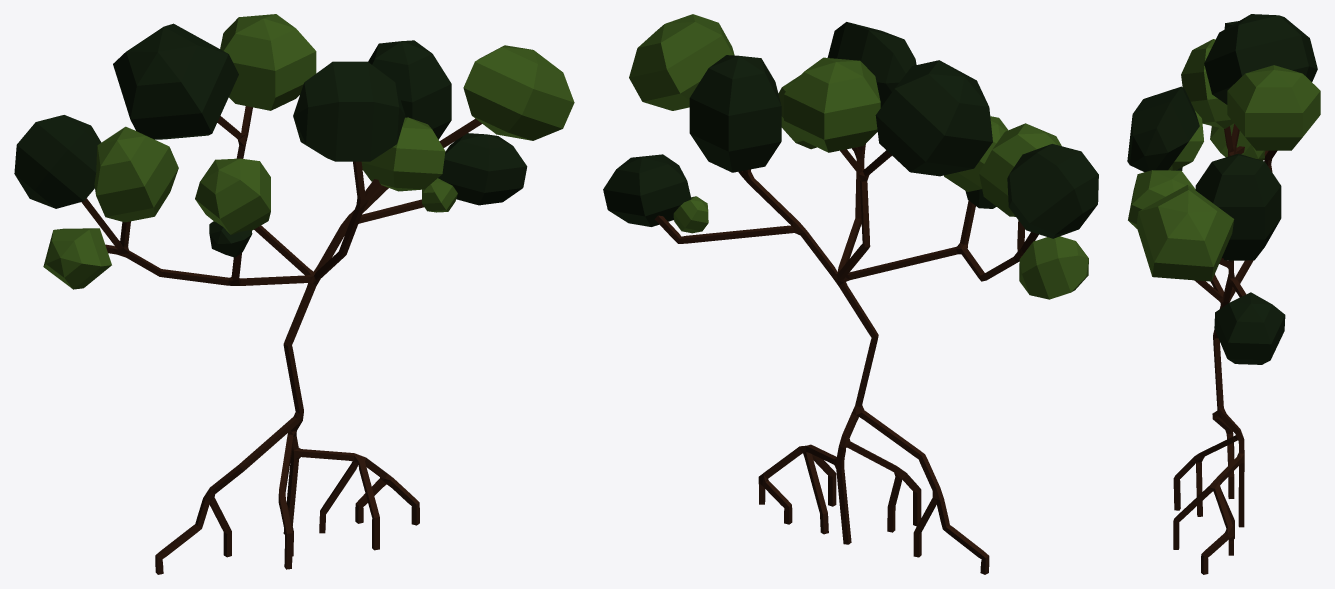
File: mangroveTree.dae
The picture shows the model from 3 angles, left to right: view 1: azimuth 30°, elevation 25°; view 2: azimuth 150°, elevation 25°; view 3: azimuth 270°, elevation 25°; orthographic projection. The views are drawn at different scales.
Visible parts, largest first — view 1: mangroveTree; view 2: mangroveTree; view 3: mangroveTree.
Part boxes in pixels (left/top/right/bottom): mangroveTree: left=14, top=14, right=574, bottom=574; mangroveTree: left=603, top=14, right=1098, bottom=574; mangroveTree: left=1127, top=14, right=1320, bottom=574.
Size of the model in its own units: 5.21 by 5.23 by 1.96.
